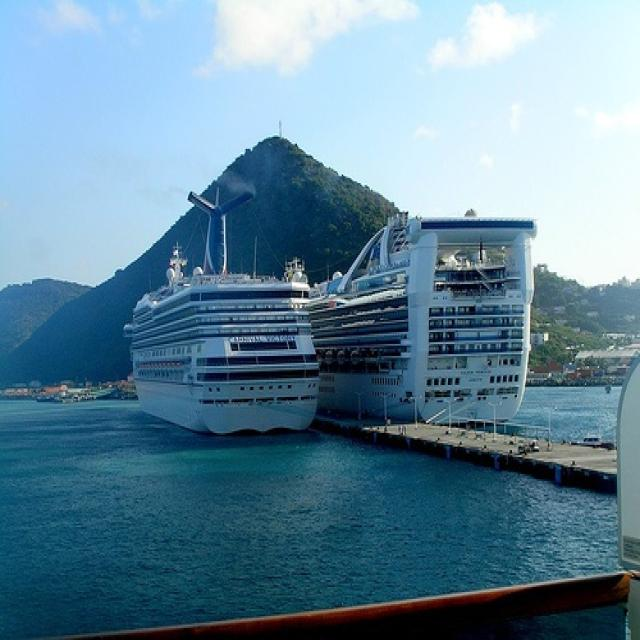boat: (119, 176, 323, 436), (311, 207, 536, 438)
